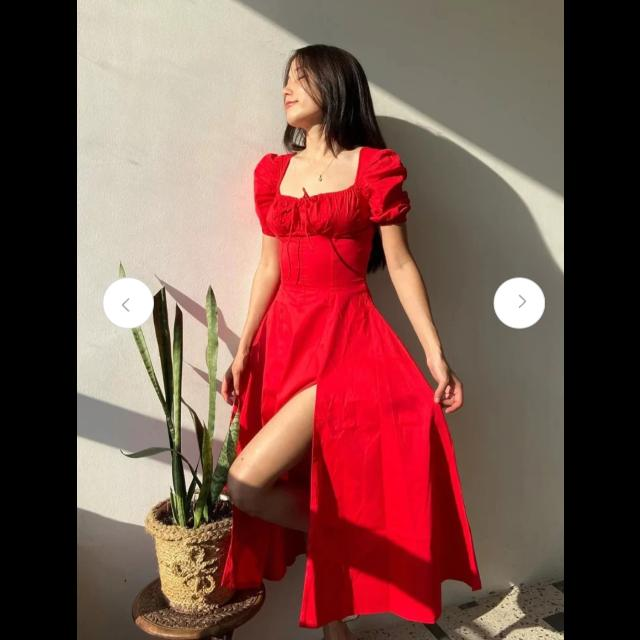dress: (246, 157, 474, 626)
